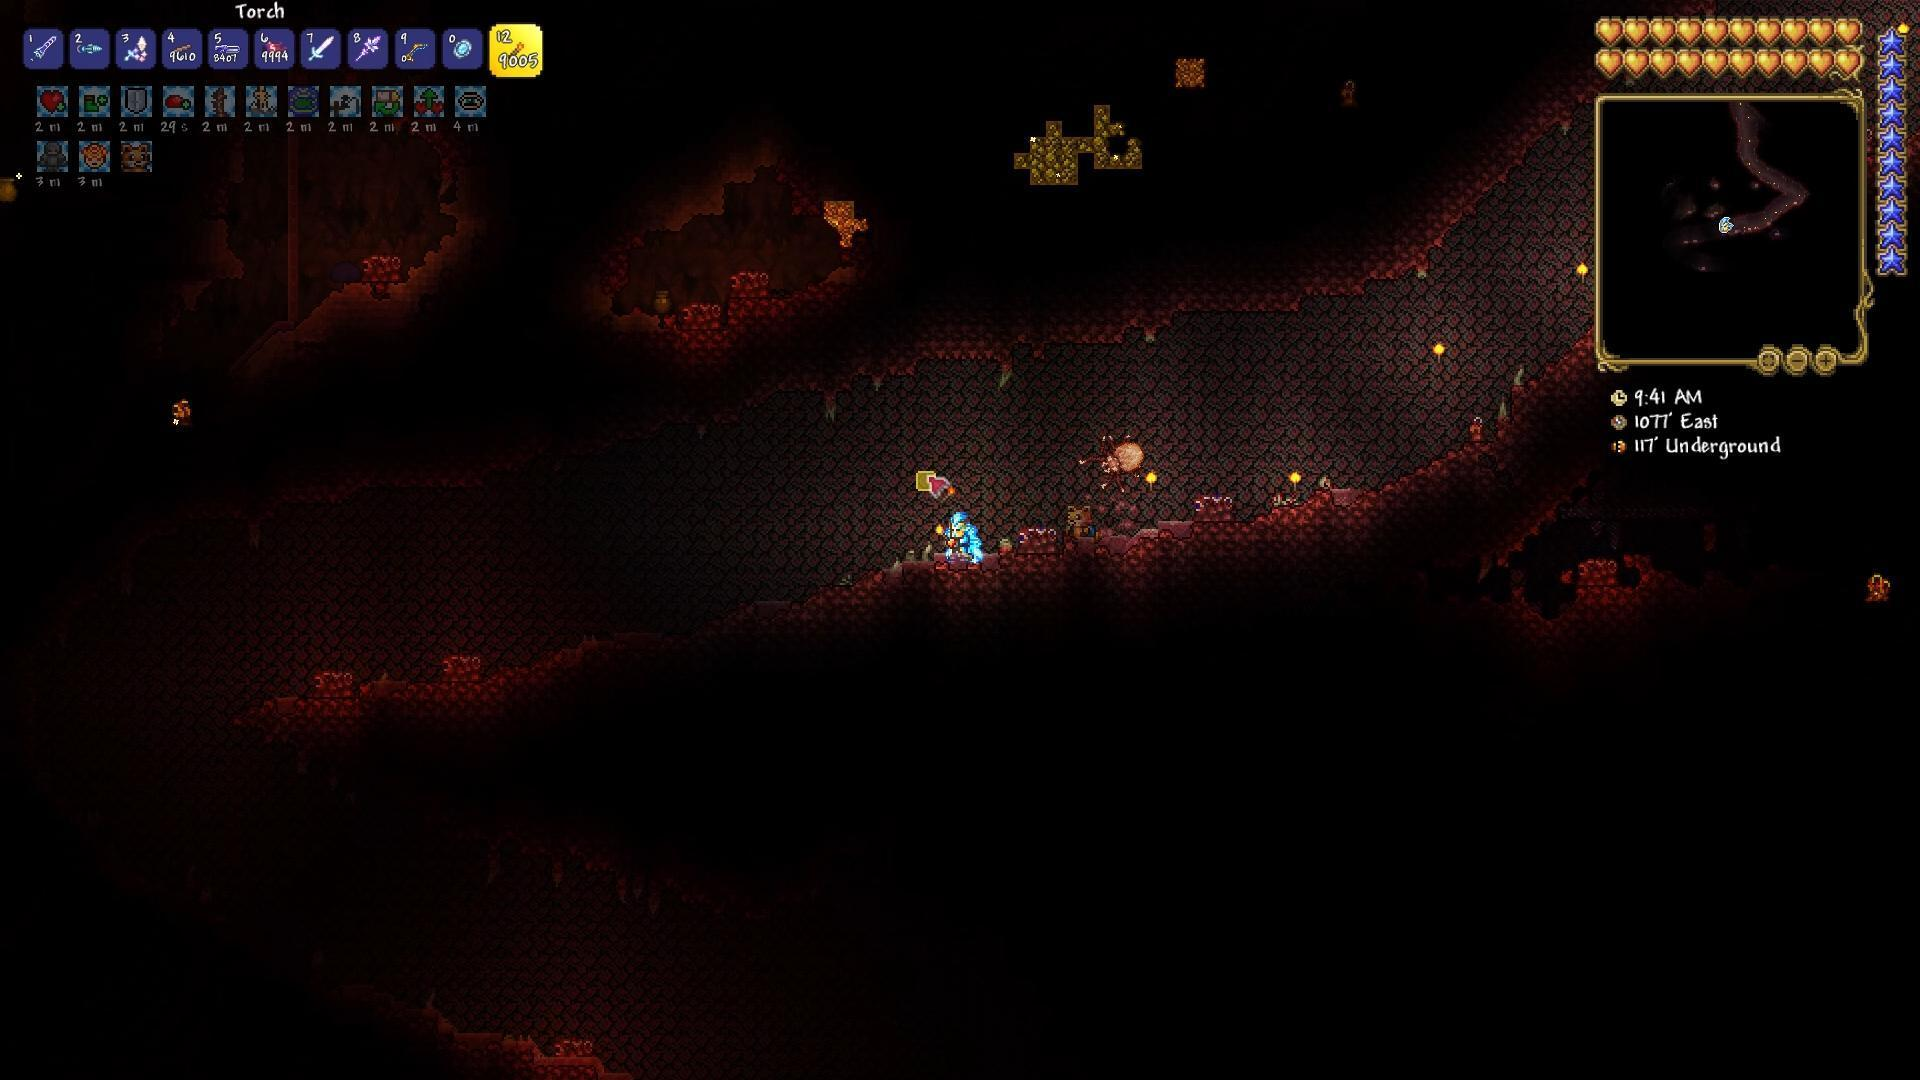spider: (1076, 426, 1147, 492)
